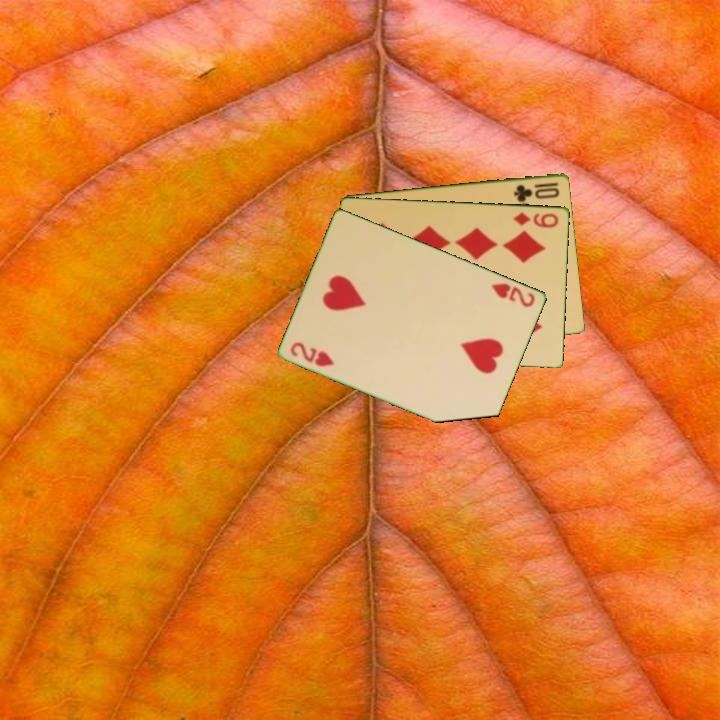10c: (510, 178, 563, 203)
2h: (287, 338, 338, 370), (488, 279, 538, 310)
9d: (510, 208, 562, 230)
